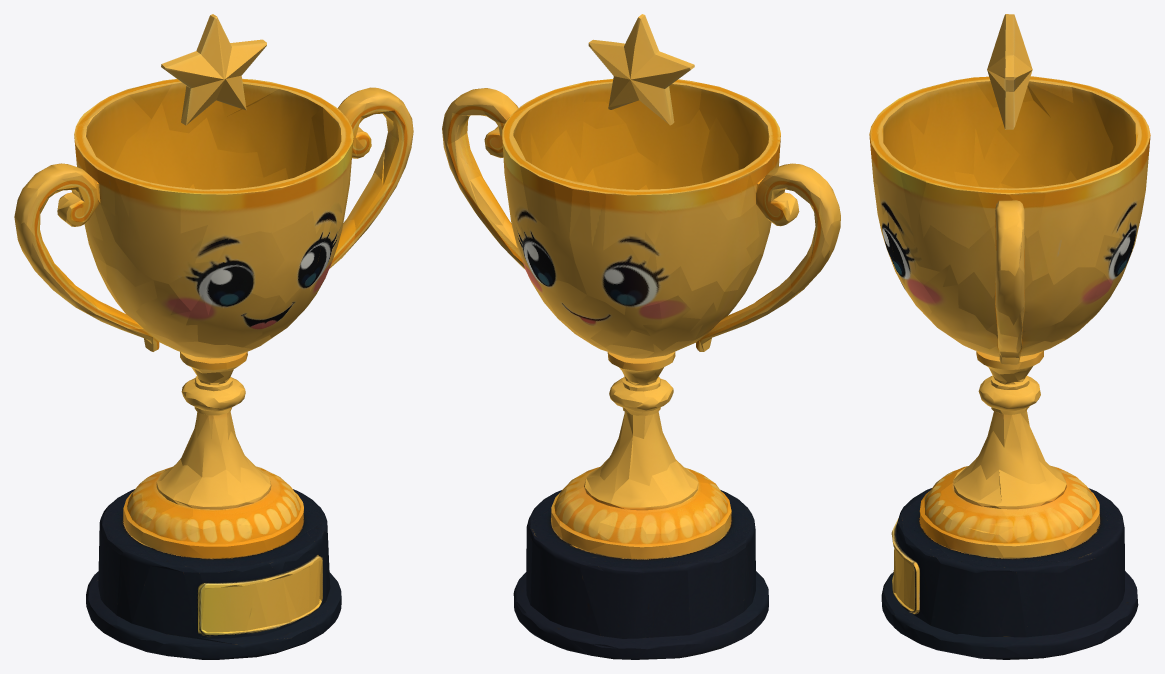
Rendered from trophy.glb.
3 views of the same model, side by side, from view 1: azimuth 30°, elevation 25°; view 2: azimuth 150°, elevation 25°; view 3: azimuth 270°, elevation 25° (orthographic).
Visible parts, largest first — view 1: output_unwrapped; view 2: output_unwrapped; view 3: output_unwrapped.
Boxes of the visible parts, <box> form: output_unwrapped: <box>14,14,413,659</box>; output_unwrapped: <box>442,14,840,659</box>; output_unwrapped: <box>869,14,1150,659</box>.
Size of the model in its own units: 1.32 by 1.9 by 0.8167.
1 material, 1 textured.
